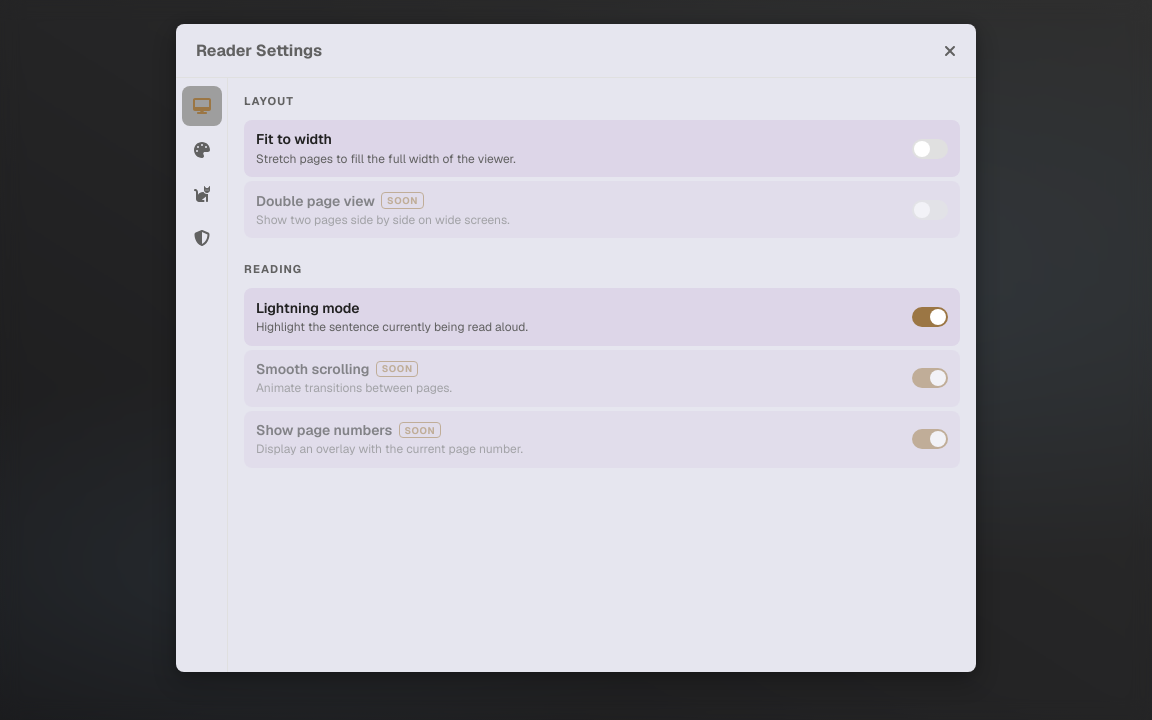
Test: ReaderSettings › page background › doesn't list the app's own paper as an item: it's what none shows
The width and height of the screenshot is (1152, 720).
Click the button with test id "tab-appearance".
click(202, 150)  # box top-left (182, 130), bottom-right (222, 170)
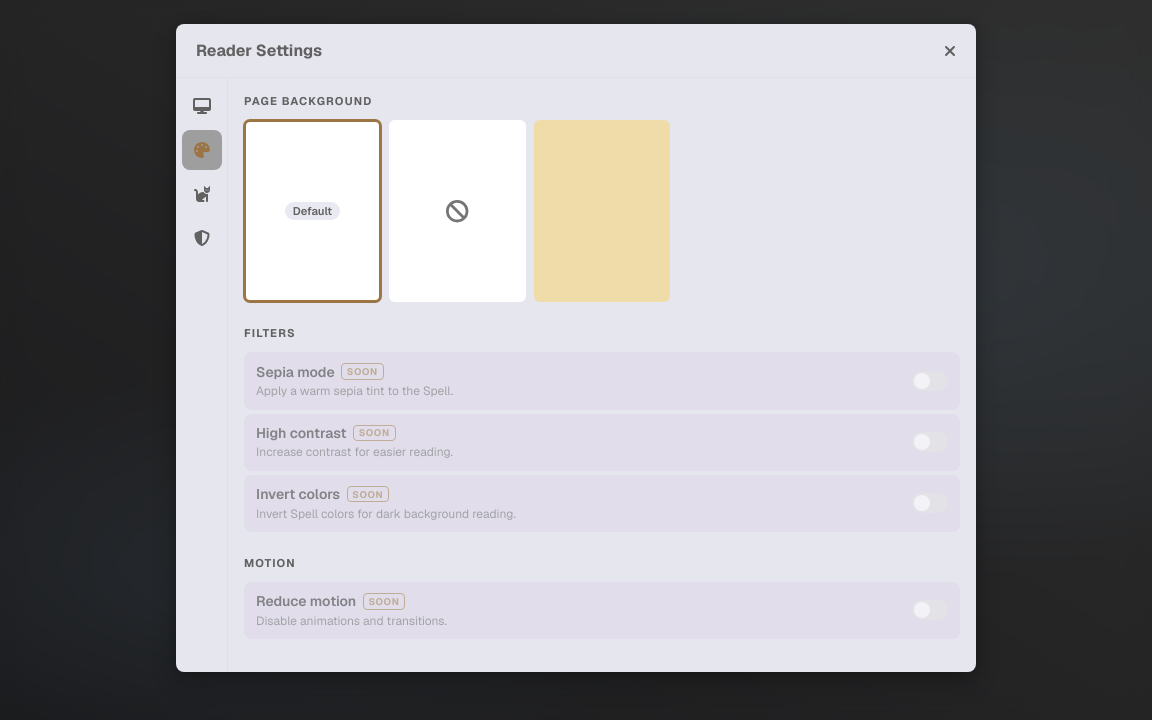
Expected: the button with test id "reader-page-bg-pick-none" is shown, top-left (389, 120), bottom-right (526, 302)
